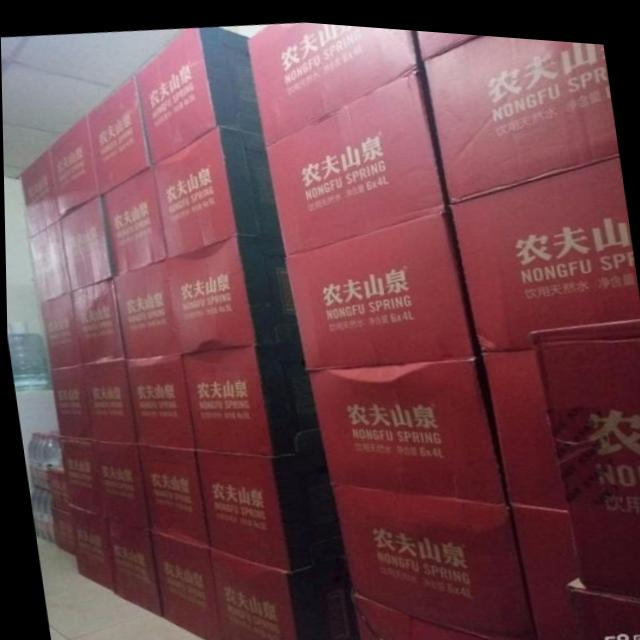box: (445, 146, 640, 346), (264, 62, 447, 255), (422, 28, 617, 198), (329, 481, 531, 639), (528, 306, 640, 587), (281, 202, 475, 364), (306, 351, 503, 496), (245, 18, 418, 140), (194, 445, 342, 569), (131, 23, 262, 163), (149, 124, 281, 254), (179, 340, 323, 453), (167, 231, 299, 352), (205, 543, 355, 640), (477, 341, 561, 501), (504, 500, 580, 640), (347, 587, 525, 640), (147, 532, 219, 640), (85, 75, 149, 195), (134, 442, 207, 545), (109, 256, 180, 358), (100, 164, 167, 272), (123, 352, 195, 447), (99, 517, 158, 615), (88, 438, 147, 530), (48, 114, 97, 221), (565, 572, 640, 640), (67, 275, 124, 363), (63, 193, 113, 290), (80, 359, 136, 441), (17, 149, 60, 236), (67, 504, 108, 590), (36, 291, 81, 368), (45, 364, 91, 439), (24, 224, 67, 303), (57, 434, 98, 514), (414, 24, 475, 51), (47, 507, 72, 552), (44, 464, 68, 510)
